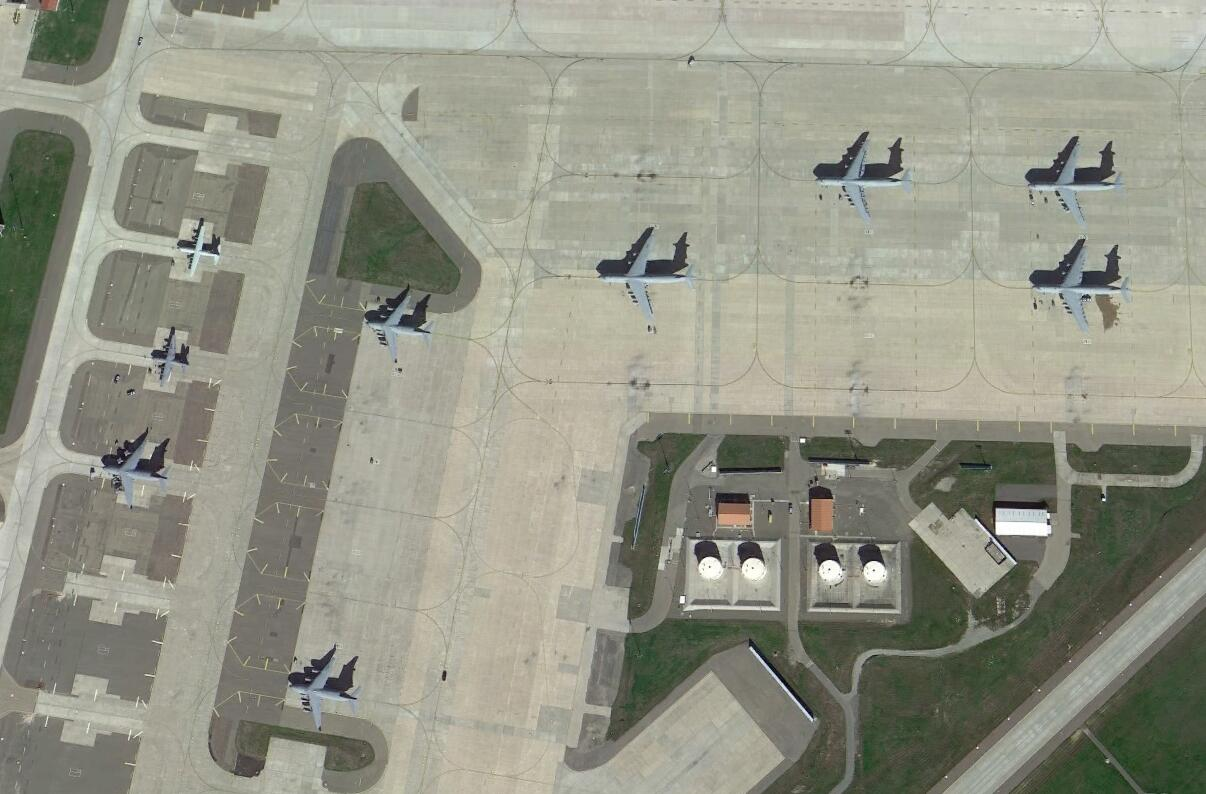A2: (175, 221, 224, 280), (147, 328, 193, 389)
A3: (284, 651, 362, 735), (97, 435, 171, 513), (365, 293, 435, 363)
A4: (1030, 238, 1129, 337), (598, 228, 694, 325), (814, 135, 912, 226), (1026, 142, 1124, 229)
